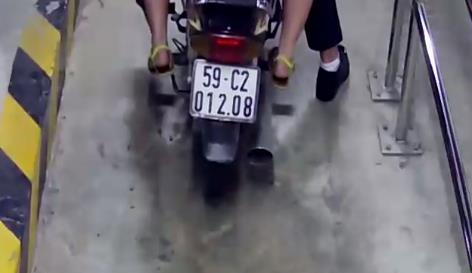lisence: (190, 59, 260, 122)
